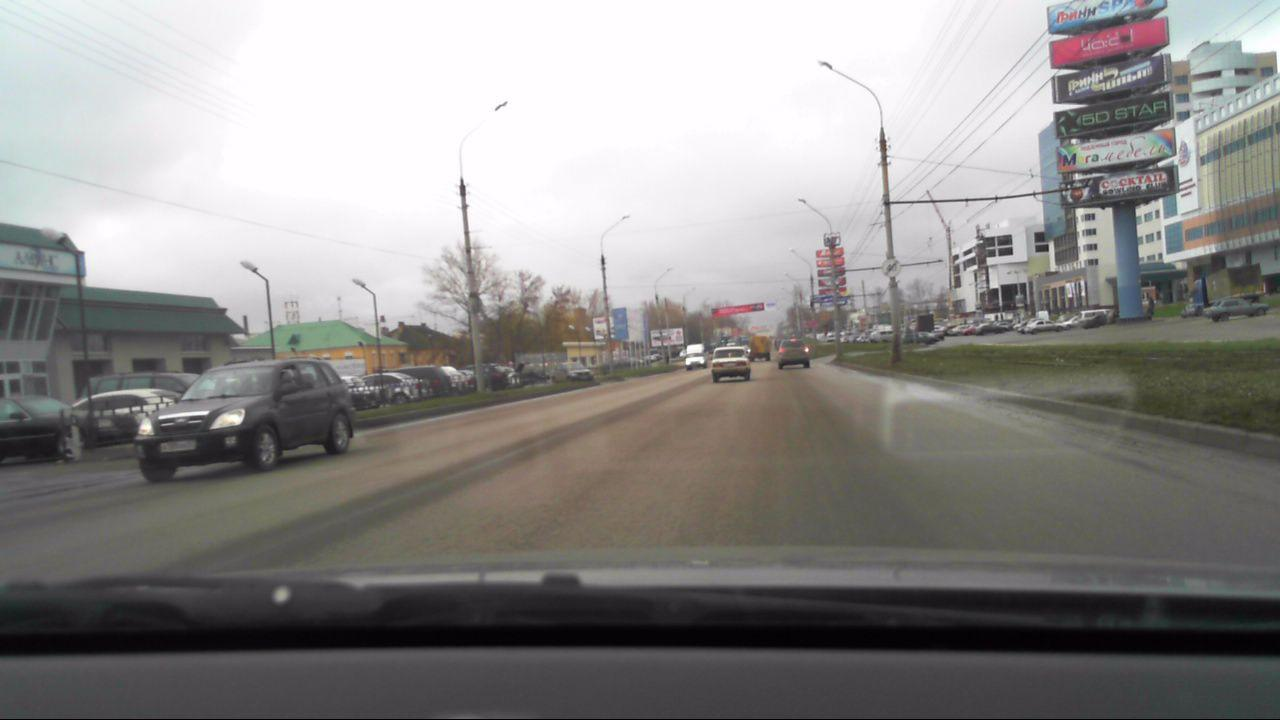3_25: (880, 256, 905, 280)
